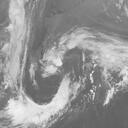cyclone: (27, 25, 113, 118)
